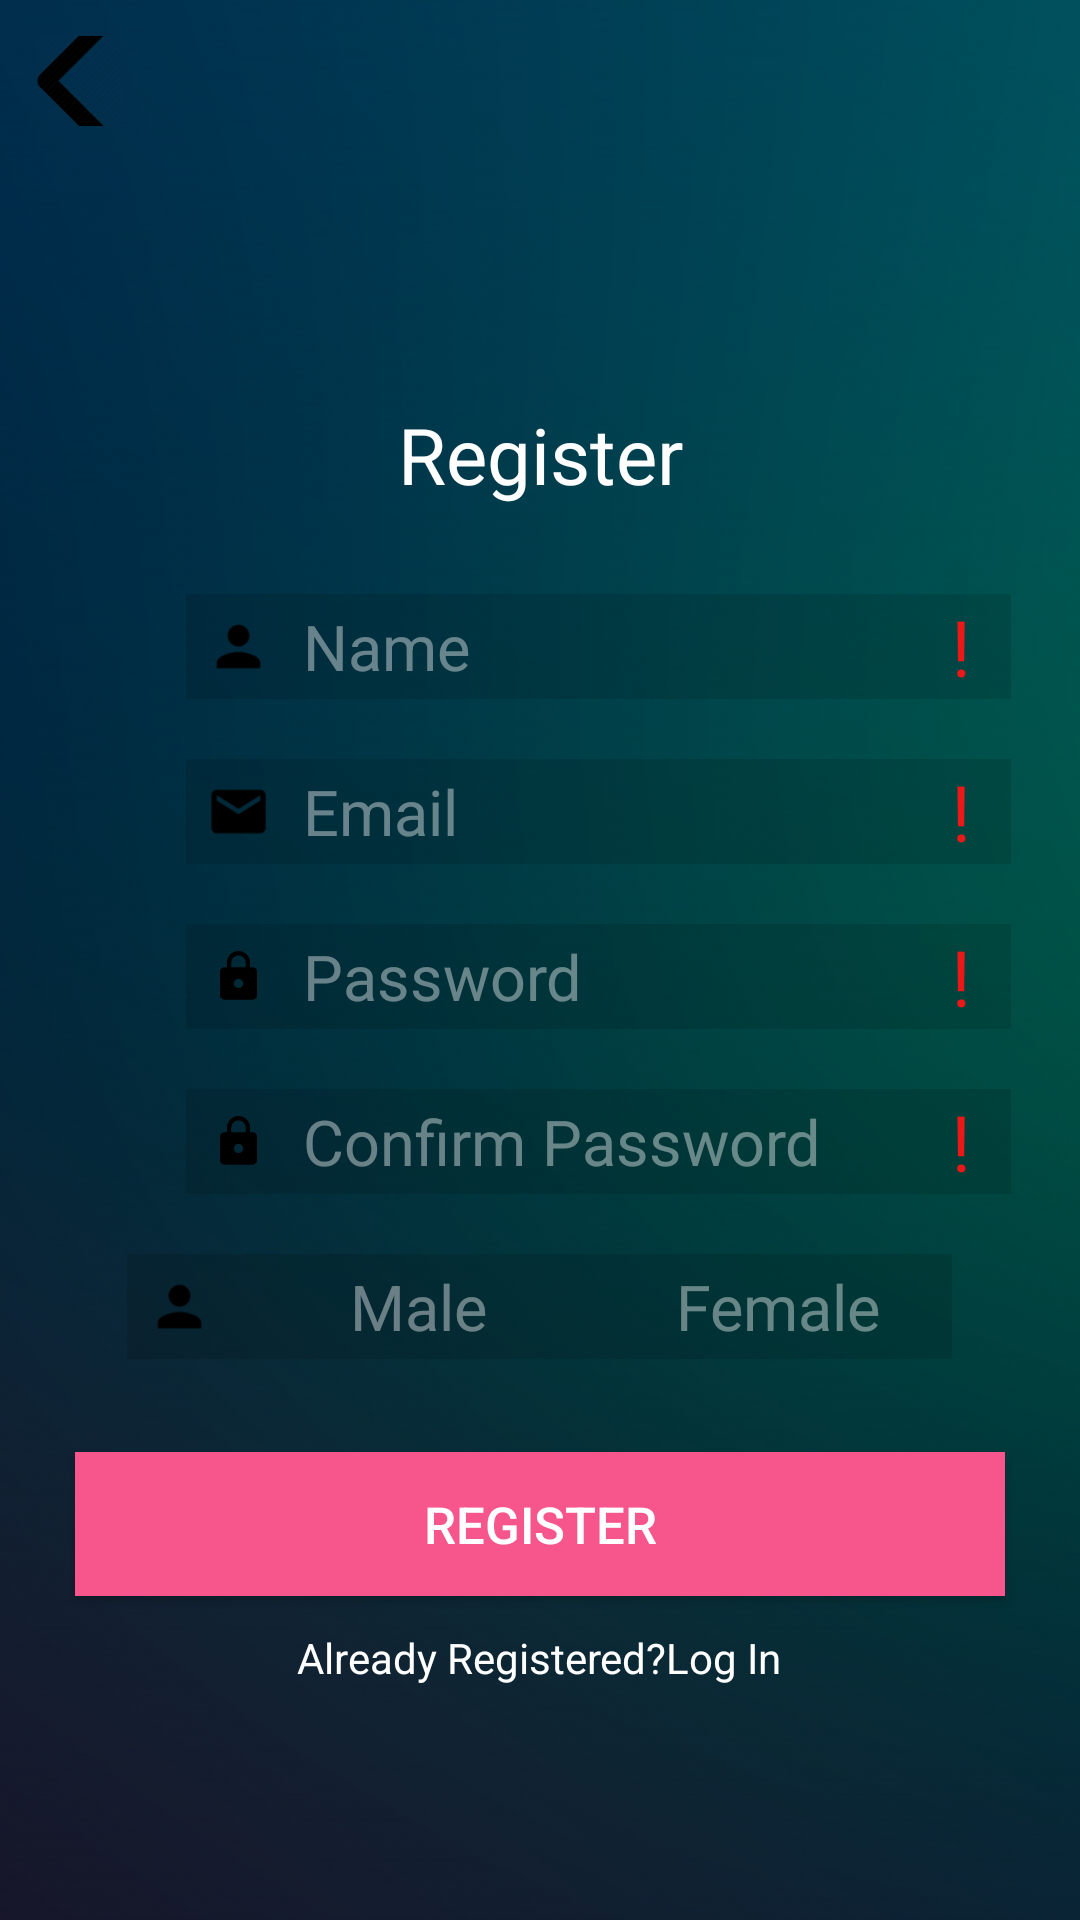

Point at icon controls on the screen. Image size 1080px x 1920px, points as point (x, y).
back: point (70, 81)
lock: point (238, 975), point (238, 1140)
user: point (238, 647), point (179, 1306)
